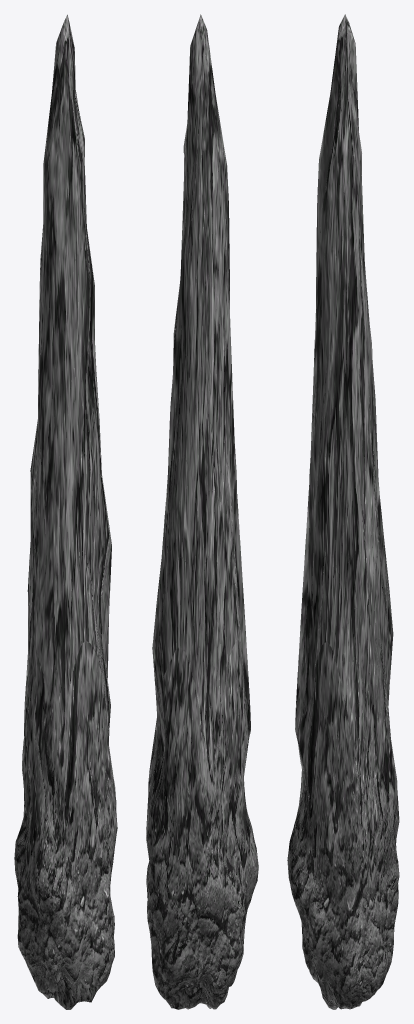
The model's file is fracture_spike.obj.
The picture shows the model from 3 angles, left to right: view 1: azimuth 30°, elevation 25°; view 2: azimuth 150°, elevation 25°; view 3: azimuth 330°, elevation 25°; orthographic projection.
Visible parts, largest first — view 1: Cube.002; view 2: Cube.002; view 3: Cube.002.
Part boxes in pixels (box(x1,y1,x2,y2)): Cube.002: box(14, 14, 117, 1009); Cube.002: box(146, 14, 258, 1009); Cube.002: box(287, 14, 399, 1009).
Bounding box in the file's own units: 1.11 × 11.62 × 1.03.
